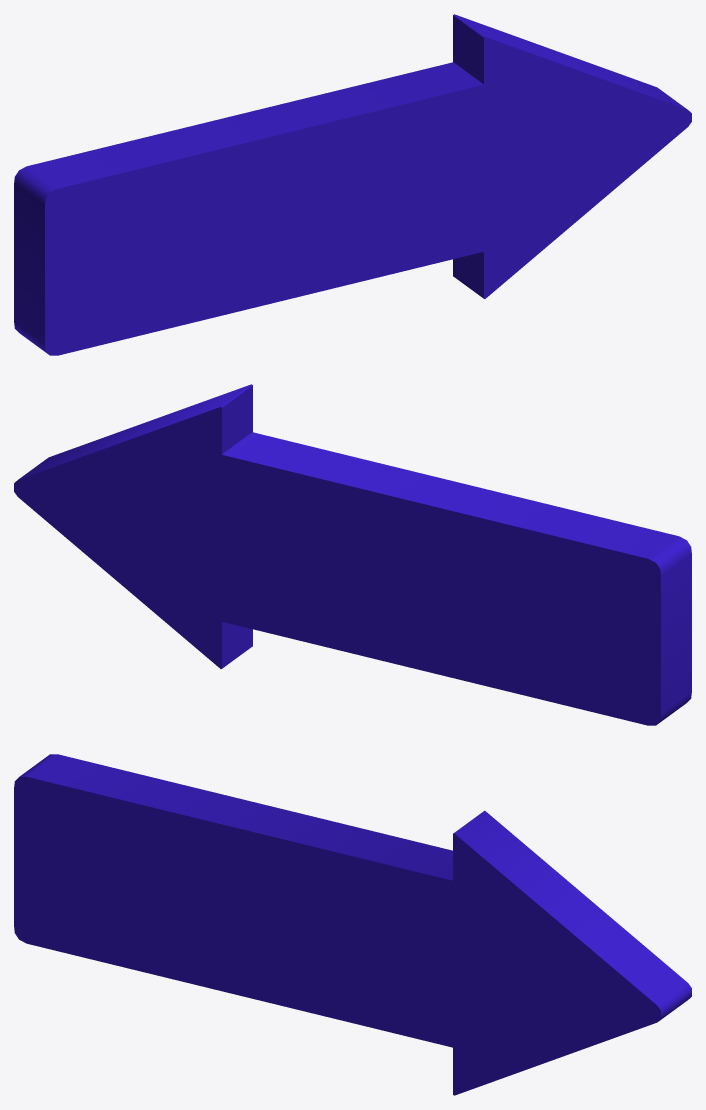
Rendered from smallerarrow.obj.
3 views of the same model, one above another, from view 1: azimuth 30°, elevation 25°; view 2: azimuth 150°, elevation 25°; view 3: azimuth 330°, elevation 25° (orthographic).
Parts seen in each view (by area): view 1: Arrow5; view 2: Arrow5; view 3: Arrow5.
Boxes of the visible parts, x1,y1,x2,y2 form: Arrow5: [14, 14, 691, 355]; Arrow5: [14, 384, 691, 725]; Arrow5: [14, 754, 691, 1095].
Size of the model in its own units: 0.4014 by 0.1556 by 0.0331.
